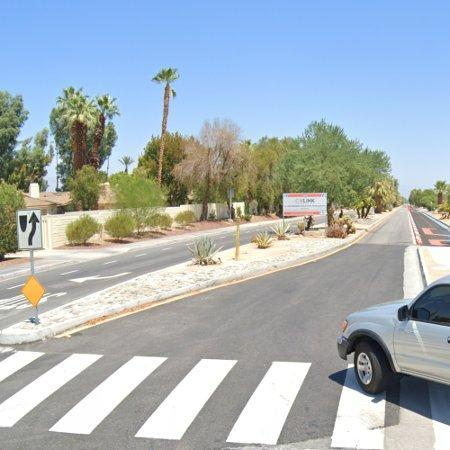crosswalks: (0, 346, 450, 450)
